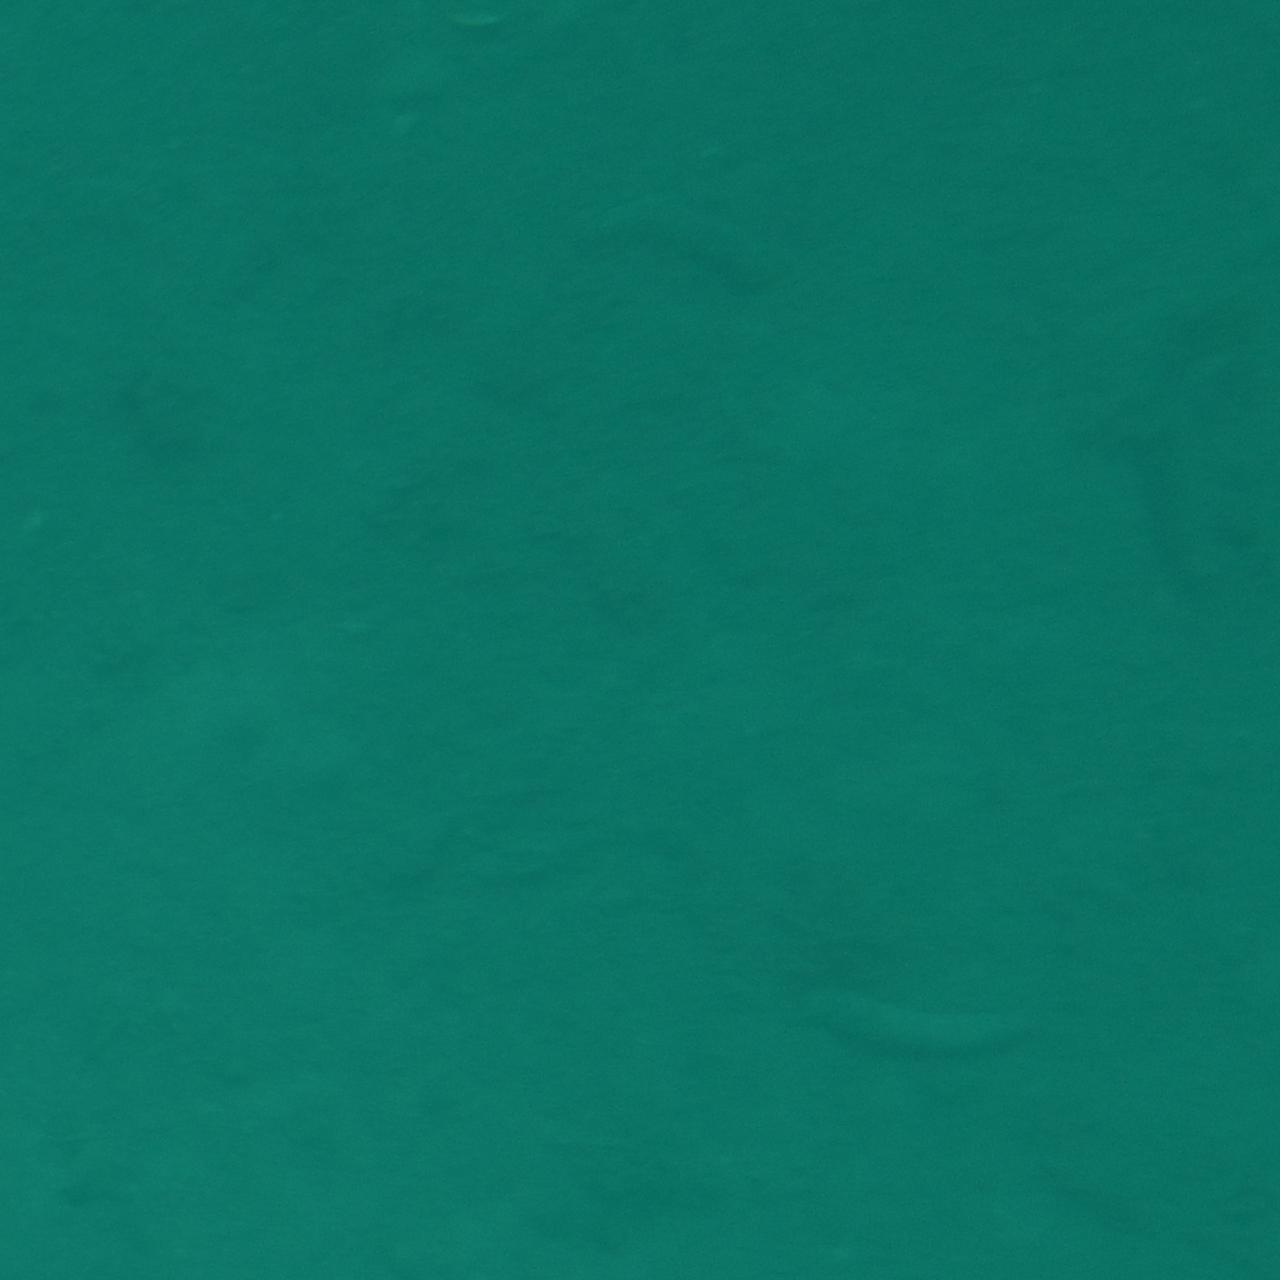Holothuria tubulosa: (531, 177, 819, 334), (801, 962, 1060, 1088)
